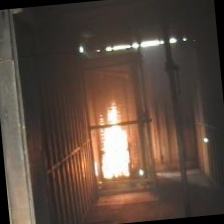fire: (91, 91, 136, 177)
